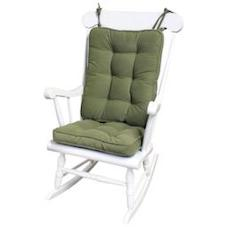chair: (35, 2, 180, 220)
